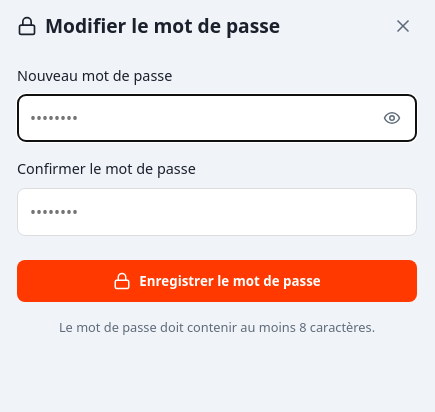
Test: ChangePassword › affiche une erreur si les mots de passe ne correspondent pas
Type "password123" into the password field with placeholder "••••••••" below "Nouveau mot de passe". click: (217, 118)
box: [17,94,417,142]
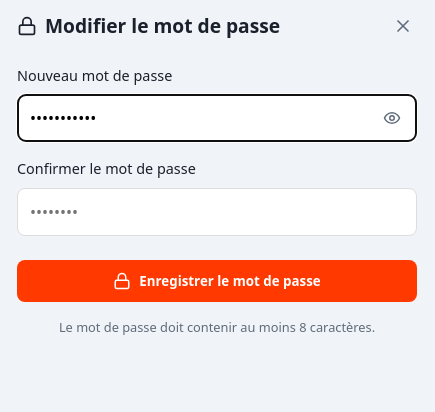
Type "different123" into the password field with placeholder "••••••••". click: (217, 212)
box: [17,188,417,236]
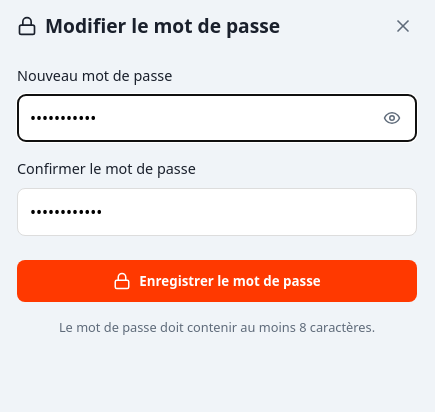
Submit the form, box [17,65,417,302]
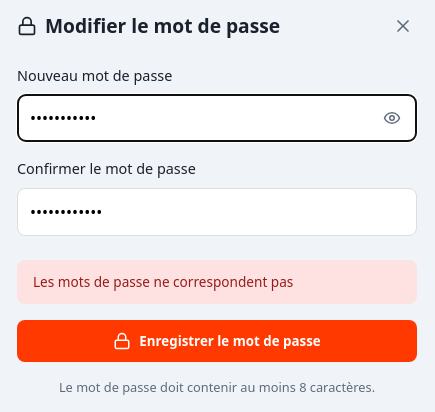
expect the text "Les mots de passe ne correspondent pas" is shown: met, box [17,260,417,304]
